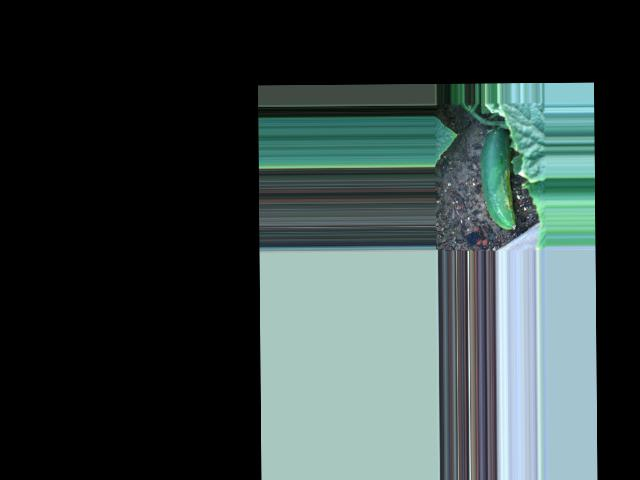cucumber: (480, 129, 516, 230)
